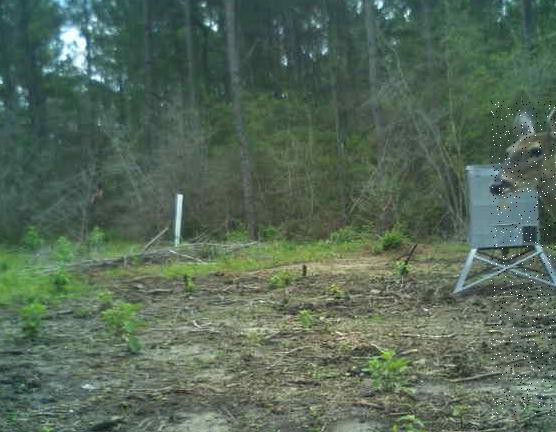Deer: (491, 101, 556, 415)
